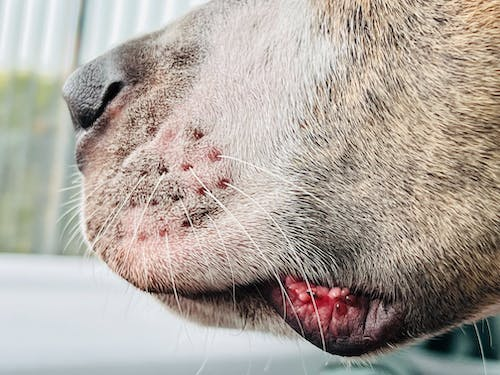blood: (273, 263, 364, 319)
